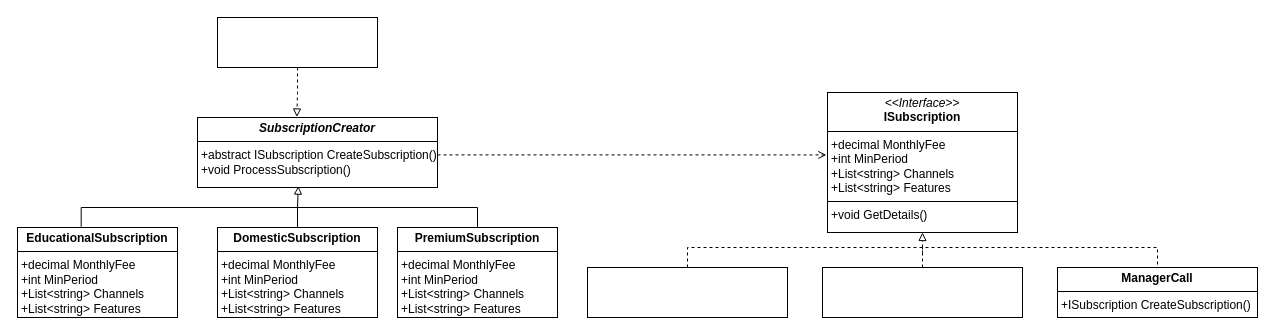
This 1275x335 diagram has some shape labels left out. The box of each missing label's shape, as (x1, y1, x2, y2) in pixels:
MobileApp +ISubscription CreateSubscription(): (822, 266, 1022, 318)
Program +void Main(): (216, 16, 378, 68)
WebSite +ISubscription CreateSubscription(): (586, 266, 788, 318)
